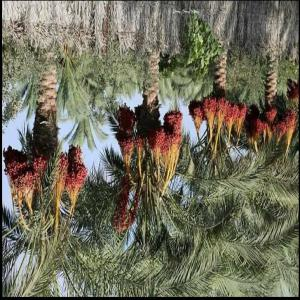palm tree: (2, 3, 298, 296)
